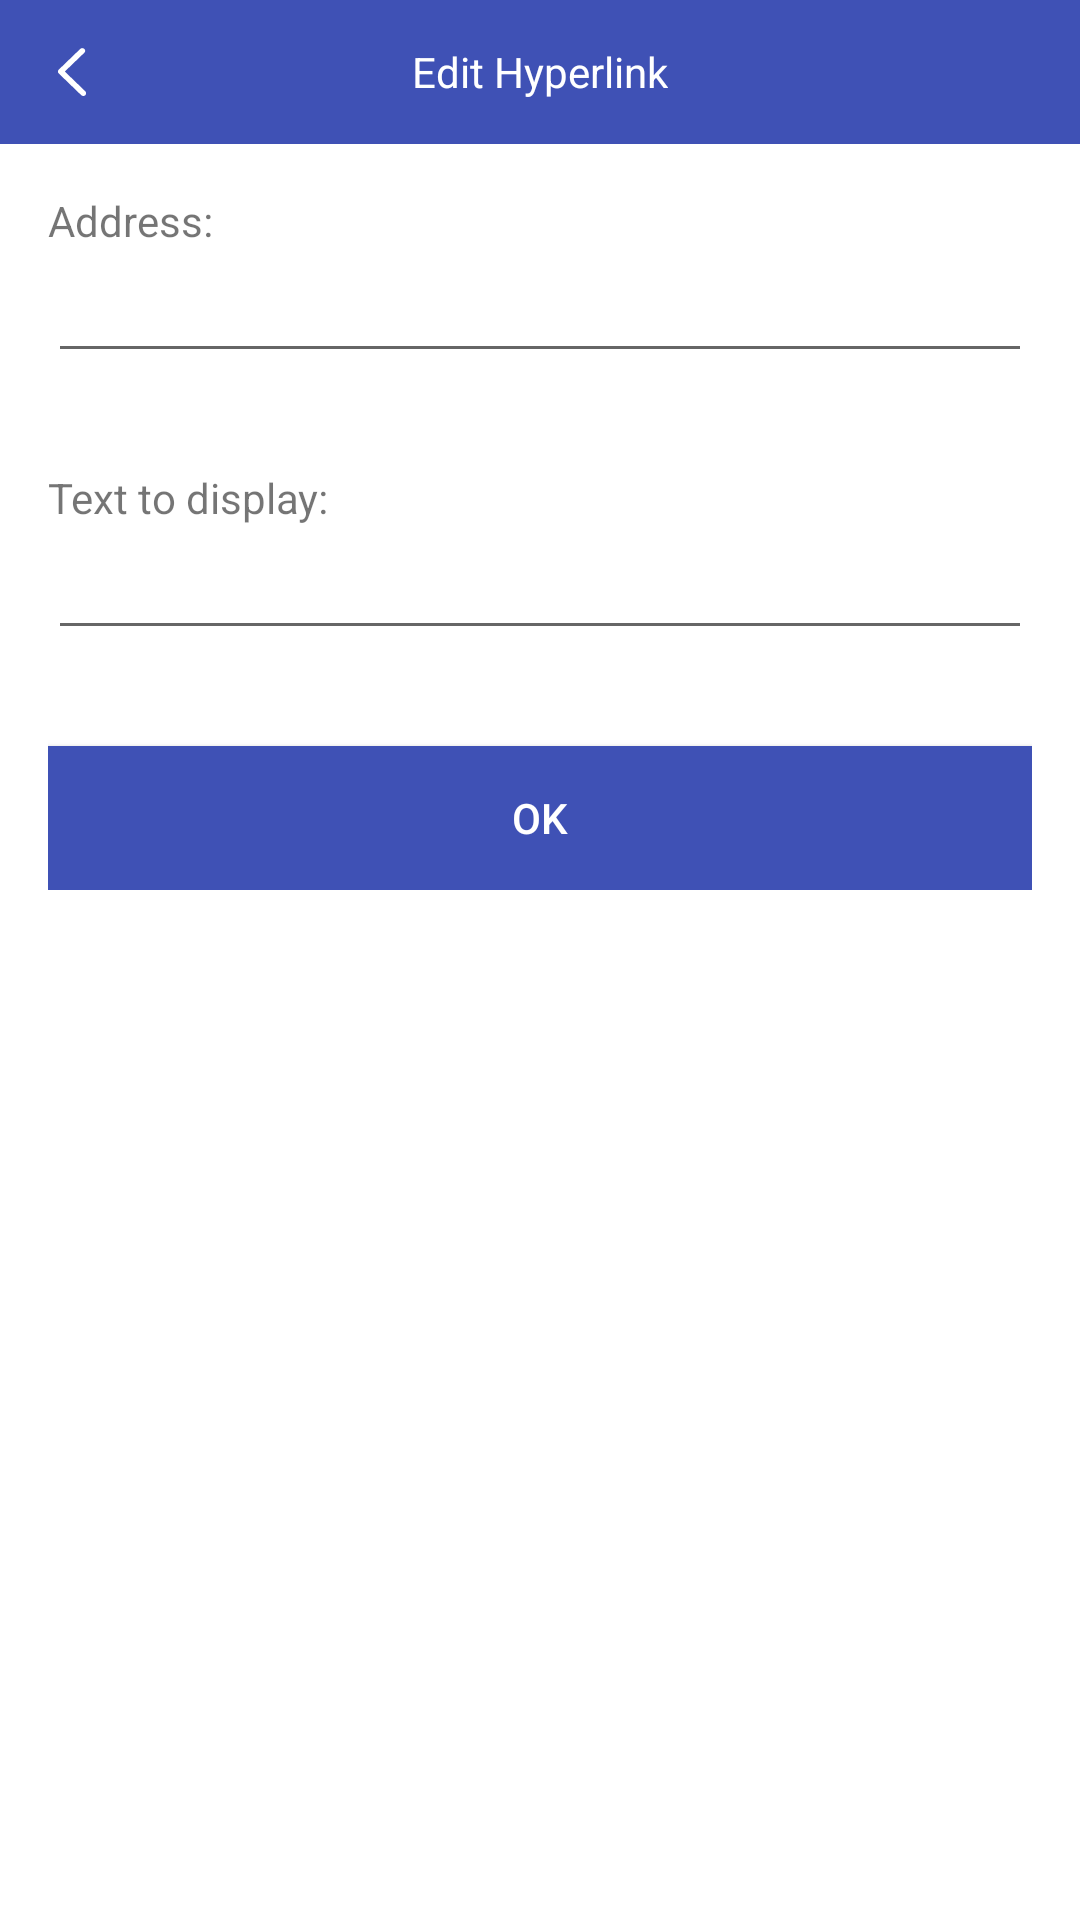

Where icons sit on this 1080w x 1920h app screen, as bbox=(x1, y1, x2, y2):
back: bbox=(58, 48, 86, 96)
